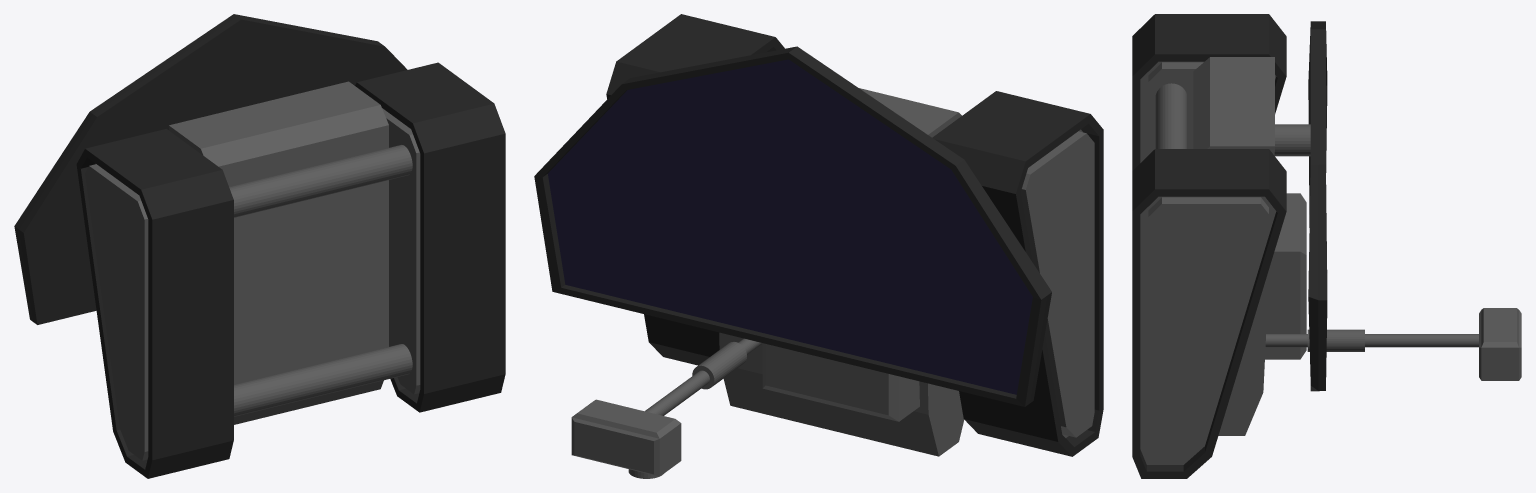
File: Rover.fbx
3 renders of one model, left to right at view 1: azimuth 30°, elevation 25°; view 2: azimuth 150°, elevation 25°; view 3: azimuth 270°, elevation 25°, orthographic. The views are drawn at different scales.
Parts seen in each view (by area): view 1: Cube.004; view 2: Cube.004; view 3: Cube.004.
Boxes of the visible parts, box(x1,y1,x2,y2) form: Cube.004: box(14, 14, 505, 478); Cube.004: box(534, 14, 1103, 478); Cube.004: box(1132, 14, 1521, 478).
Size of the model in its own units: 322 by 250 by 244.
